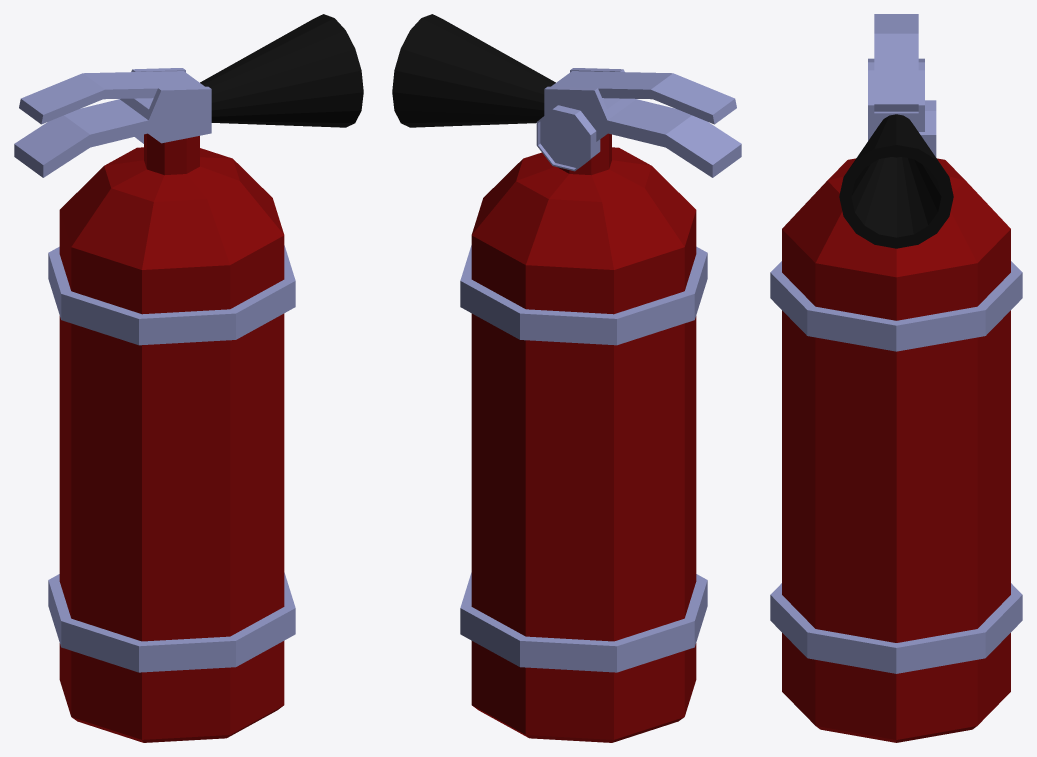
The model's file is FireExt.obj.
3 views of the same model, side by side, from view 1: azimuth 30°, elevation 25°; view 2: azimuth 150°, elevation 25°; view 3: azimuth 270°, elevation 25° (orthographic).
Visible parts, largest first — view 1: Body_Cylinder, Top_Cylinder.001, Cone, HandleBottom_Cube.001, BandBottom_Cylinder.005, BandTop_Cylinder.004, HandleTop_Cube.003, Neck_Cylinder.003; view 2: Body_Cylinder, Top_Cylinder.001, Cone, BandBottom_Cylinder.005, BandTop_Cylinder.004, HandleBottom_Cube.001, HandleTop_Cube.003, Gauge_Cylinder.006, Neck_Cylinder.003; view 3: Body_Cylinder, Top_Cylinder.001, Cone, BandBottom_Cylinder.005, BandTop_Cylinder.004, HandleTop_Cube.003, HandleBottom_Cube.001, Gauge_Cylinder.006.
Boxes of the visible parts, x1=… form: Body_Cylinder: x1=59, y1=313, x2=284, y2=742; Top_Cylinder.001: x1=59, y1=147, x2=284, y2=314; Cone: x1=200, y1=14, x2=363, y2=127; HandleBottom_Cube.001: x1=14, y1=68, x2=211, y2=177; BandBottom_Cylinder.005: x1=48, y1=572, x2=295, y2=672; BandTop_Cylinder.004: x1=48, y1=245, x2=295, y2=345; HandleTop_Cube.003: x1=19, y1=71, x2=204, y2=124; Neck_Cylinder.003: x1=144, y1=133, x2=199, y2=175; Body_Cylinder: x1=471, y1=313, x2=696, y2=742; Top_Cylinder.001: x1=471, y1=147, x2=696, y2=314; Cone: x1=392, y1=14, x2=555, y2=127; BandBottom_Cylinder.005: x1=460, y1=572, x2=707, y2=672; BandTop_Cylinder.004: x1=460, y1=245, x2=707, y2=345; HandleBottom_Cube.001: x1=544, y1=68, x2=741, y2=177; HandleTop_Cube.003: x1=551, y1=71, x2=736, y2=124; Gauge_Cylinder.006: x1=536, y1=105, x2=600, y2=171; Neck_Cylinder.003: x1=557, y1=133, x2=611, y2=175; Body_Cylinder: x1=782, y1=310, x2=1010, y2=742; Top_Cylinder.001: x1=782, y1=158, x2=1010, y2=320; Cone: x1=839, y1=114, x2=953, y2=248; BandBottom_Cylinder.005: x1=770, y1=583, x2=1022, y2=673; BandTop_Cylinder.004: x1=770, y1=261, x2=1022, y2=351; HandleTop_Cube.003: x1=874, y1=14, x2=918, y2=111; HandleBottom_Cube.001: x1=868, y1=58, x2=924, y2=140; Gauge_Cylinder.006: x1=919, y1=100, x2=936, y2=157.
Bounding box in the file's own units: 3.04 × 6.07 × 2.2.
